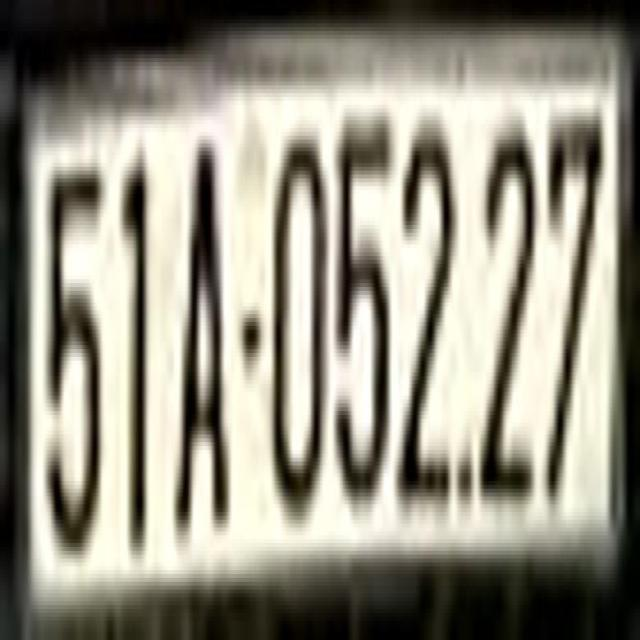0: (269, 118, 326, 518)
1: (119, 147, 150, 555)
2: (478, 114, 535, 507), (398, 105, 453, 508)
5: (335, 97, 392, 508), (47, 142, 103, 556)
7: (545, 101, 604, 508)
A: (173, 120, 232, 539)
